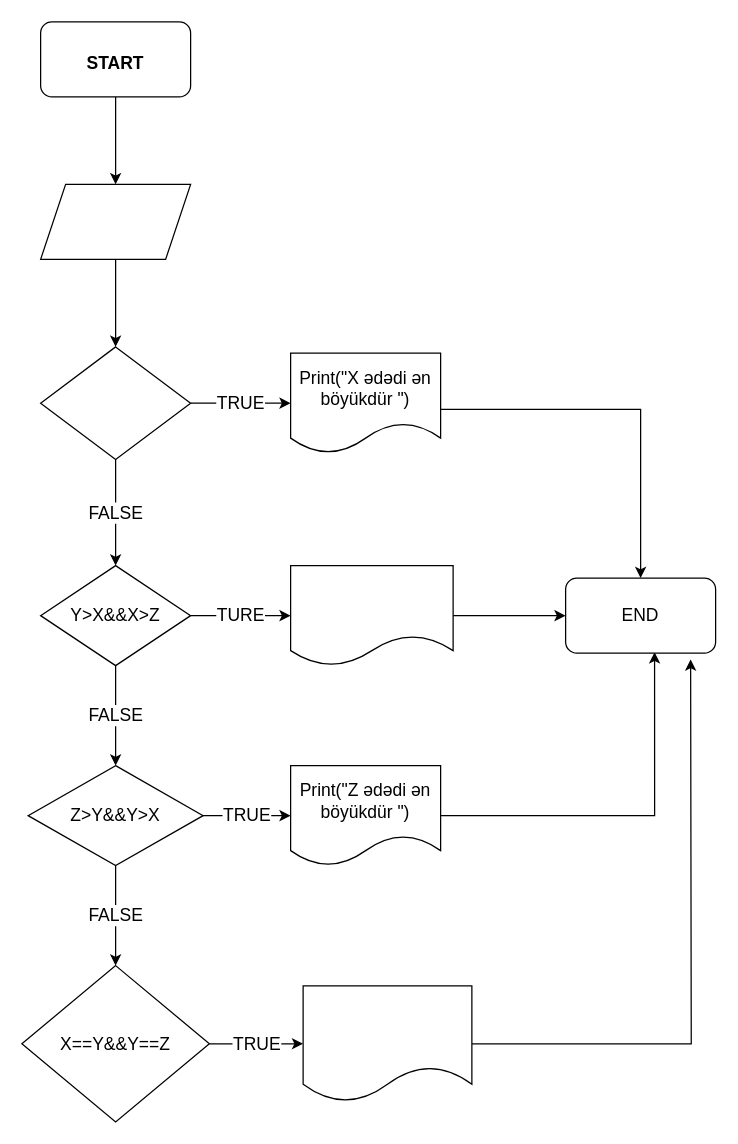
The diagram is 738 pixels wide and 1144 high, and some of its shapes have lost their labels. Each missing label, with the centre of its shape:
Print(" Hər üç Ədəd bir- birinə bərabər ola bilməz"): (387,1043)
Print("Y ədədi ən böyükdür"): (371,615)
X,Y,Z: (115,221)
X>Y&&Y>Z: (115,402)
